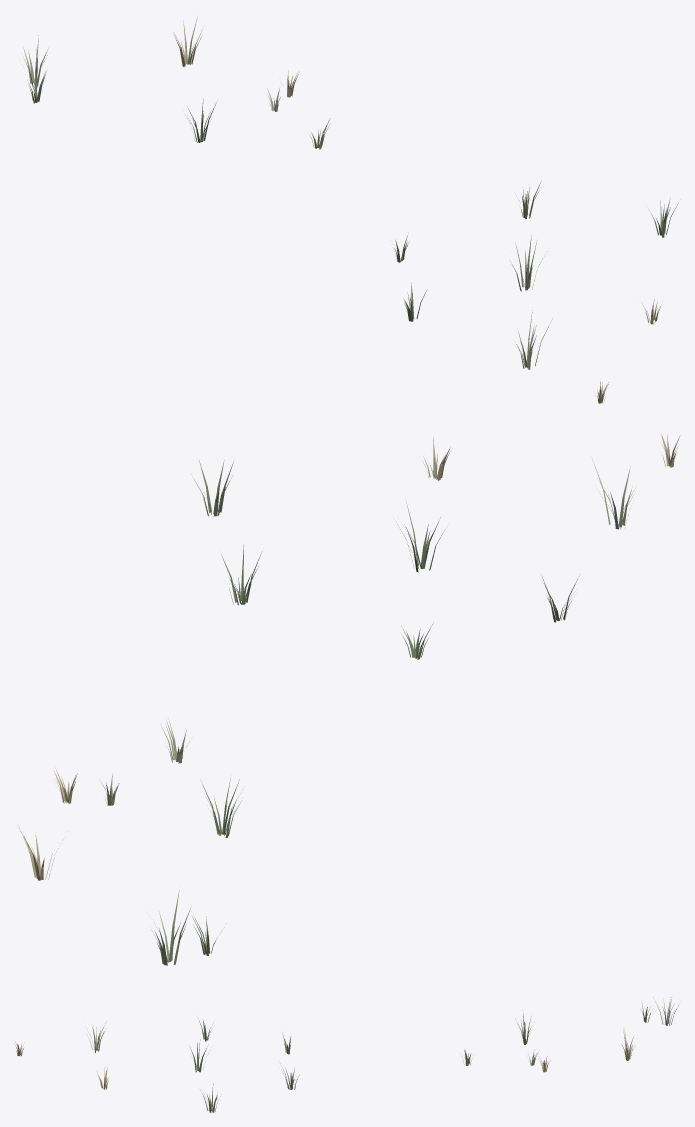
Rendered from AE_Grass_-6_0.fbx.
3 renders of one model, top to bottom at view 1: azimuth 30°, elevation 25°; view 2: azimuth 150°, elevation 25°; view 3: azimuth 270°, elevation 25°, orthographic. The views are drawn at different scales.
Visible parts, largest first — view 1: AE_Grass_-6_0_LOD0; view 2: AE_Grass_-6_0_LOD0; view 3: AE_Grass_-6_0_LOD0.
Part boxes in pixels (left/top/right/bottom): AE_Grass_-6_0_LOD0: left=19, top=17, right=678, bottom=403; AE_Grass_-6_0_LOD0: left=18, top=434, right=680, bottom=965; AE_Grass_-6_0_LOD0: left=14, top=997, right=678, bottom=1112.
Size of what is drawn, in the model's own units: 649 by 106 by 1608.
